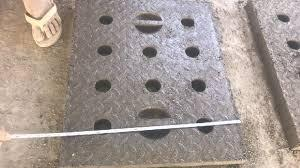open drainage-not overflowing-: (70, 0, 255, 164), (255, 2, 300, 143)
